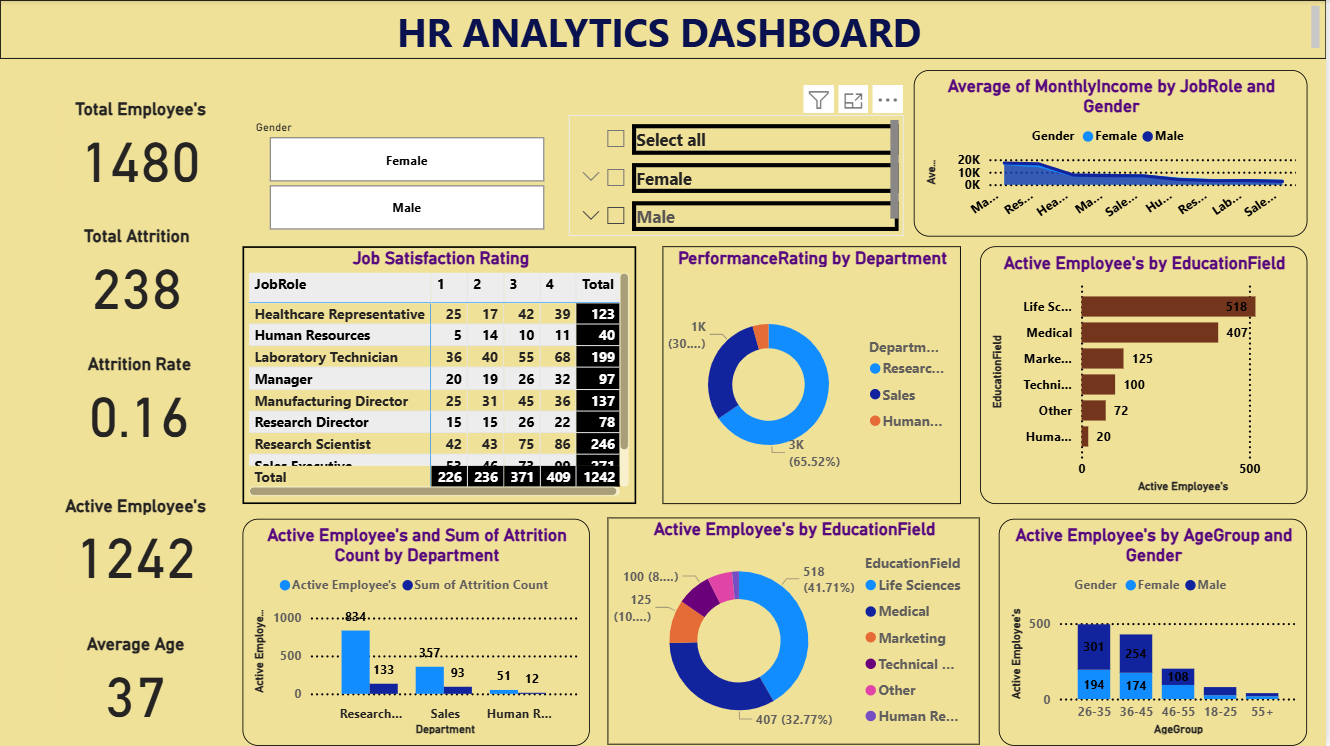

The page's visual inventory and layout, read from the dashboard file:
{"tool":"powerbi","page":{"name":"Page 1","canvas":[1280,720],"ordinal":0},"visuals":[{"type":"card","title":"Total Employee''s","fields":{"Values":["Sum(HR_Analytics.EmployeeCount)"]},"box":[59.8,94.8,150.8,90.5],"z":0},{"type":"card","title":"Average Age","fields":{"Values":["Avg(HR_Analytics.Age)"]},"box":[55,611.2,150.8,89.3],"z":1000},{"type":"card","title":"Active Employee''s","fields":{"Values":["HR_Analytics.Active Employee's"]},"box":[55,477.3,150.8,89.3],"z":2000},{"type":"card","title":"Attrition Rate","fields":{"Values":["HR_Analytics.Attrition Rate"]},"box":[58.6,340.9,150.8,90.5],"z":3000},{"type":"card","title":"Total Attrition","fields":{"Values":["Sum(HR_Analytics.Attrition Count)"]},"box":[56.2,216.7,150.8,90.5],"z":4000},{"type":"clusteredColumnChart","fields":{"Category":["HR_Analytics.Department"],"Y":["HR_Analytics.Active Employee's","Sum(HR_Analytics.Attrition Count)"]},"box":[234,500.7,335.4,219.6],"z":5000},{"type":"donutChart","fields":{"Y":["HR_Analytics.Active Employee's"],"Category":["HR_Analytics.EducationField"]},"box":[586.3,499.5,359.5,219.6],"z":6000},{"type":"columnChart","fields":{"Y":["HR_Analytics.Active Employee's"],"Category":["HR_Analytics.AgeGroup"],"Series":["HR_Analytics.Gender"]},"box":[963.9,500.7,298,219.6],"z":7000},{"type":"pivotTable","title":"Job Satisfaction Rating","fields":{"Rows":["HR_Analytics.JobRole"],"Columns":["HR_Analytics.JobSatisfaction"],"Values":["HR_Analytics.Active Employee's"]},"box":[234,237.7,380,248.5],"z":8000},{"type":"donutChart","title":"PerformanceRating by Department","fields":{"Y":["Sum(HR_Analytics.PerformanceRating)"],"Category":["HR_Analytics.Department"]},"box":[639.4,237.7,288.3,248.5],"z":9000},{"type":"clusteredBarChart","fields":{"Y":["HR_Analytics.Active Employee's"],"Category":["HR_Analytics.EducationField"]},"box":[945.8,237.7,316.1,248.5],"z":10000},{"type":"areaChart","fields":{"Category":["HR_Analytics.JobRole"],"Y":["Avg(HR_Analytics.MonthlyIncome)"],"Series":["HR_Analytics.Gender"]},"box":[881.9,67.6,380,160.5],"z":11000},{"type":"slicer","fields":{"Values":["HR_Analytics.Gender"]},"box":[234,67.6,314.9,160.5],"z":12000},{"type":"slicer","fields":{"Values":["HR_Analytics.Gender","HR_Analytics.MaritalStatus"]},"box":[548.9,68.8,323.3,160.5],"z":13000},{"type":"textbox","box":[0,0,1280,56.7],"z":14000}]}

Visuals, with their boxes in screenshot pixels (x1, y1, x2, y2), scaled from the page's 1280x720 canvas onto the 1330x746 screenshot:
"Total Employee''s" card: 62:98:219:192
"Average Age" card: 57:633:214:726
"Active Employee''s" card: 57:495:214:587
"Attrition Rate" card: 61:353:218:447
"Total Attrition" card: 58:225:215:318
clusteredColumnChart - HR_Analytics.Department x HR_Analytics.Active Employee's: 243:519:592:745
donutChart - HR_Analytics.Active Employee's x HR_Analytics.EducationField: 609:518:983:745
columnChart - HR_Analytics.Active Employee's x HR_Analytics.AgeGroup: 1002:519:1311:745
"Job Satisfaction Rating" pivotTable: 243:246:638:504
"PerformanceRating by Department" donutChart: 664:246:964:504
clusteredBarChart - HR_Analytics.Active Employee's x HR_Analytics.EducationField: 983:246:1311:504
areaChart - HR_Analytics.JobRole x Avg(HR_Analytics.MonthlyIncome): 916:70:1311:236
slicer - HR_Analytics.Gender: 243:70:570:236
slicer - HR_Analytics.Gender x HR_Analytics.MaritalStatus: 570:71:906:238
textbox: 0:0:1329:59
